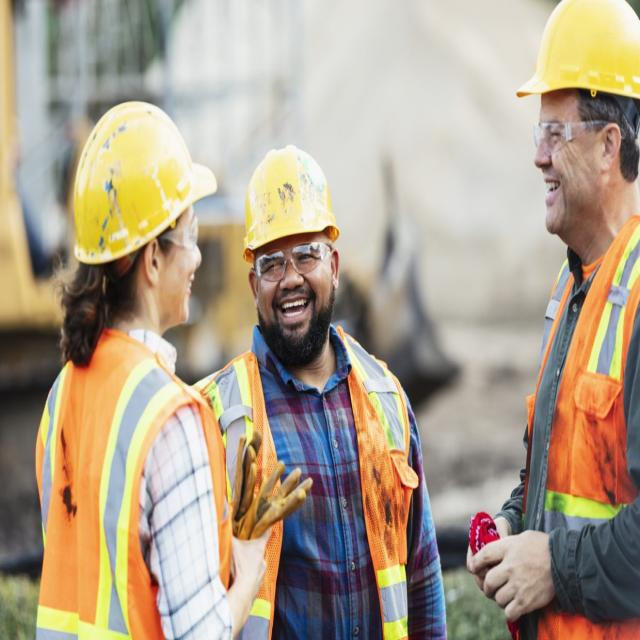goggles: (526, 114, 630, 157), (245, 237, 331, 283), (160, 212, 204, 248)
helmet: (68, 99, 219, 270), (514, 0, 640, 113), (242, 142, 341, 268)
vest: (197, 326, 420, 640), (22, 317, 235, 640), (505, 209, 640, 640)
